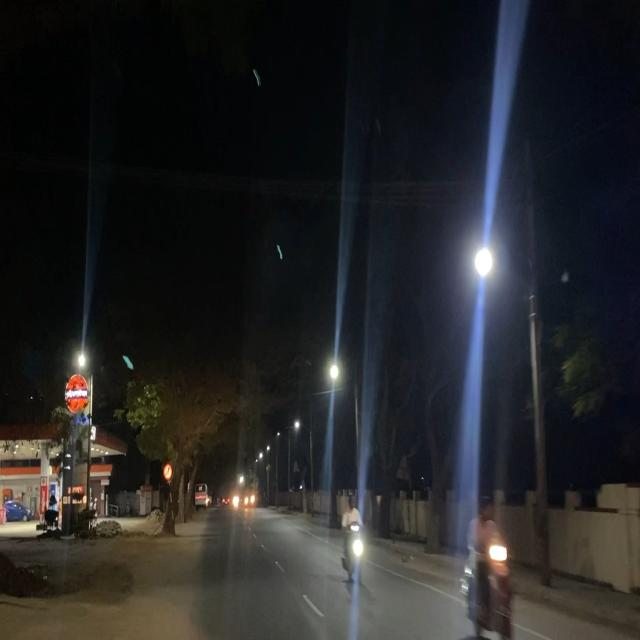bien_cam: (163, 462, 173, 481)
